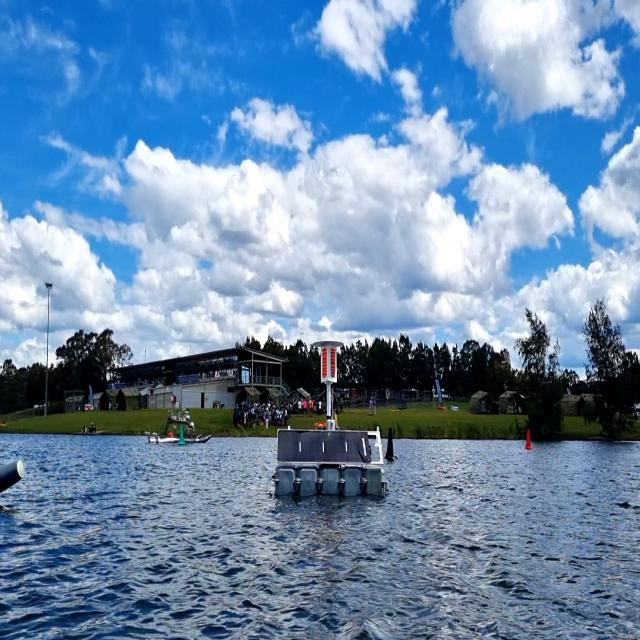led: (330, 346, 336, 380), (322, 348, 328, 379)
